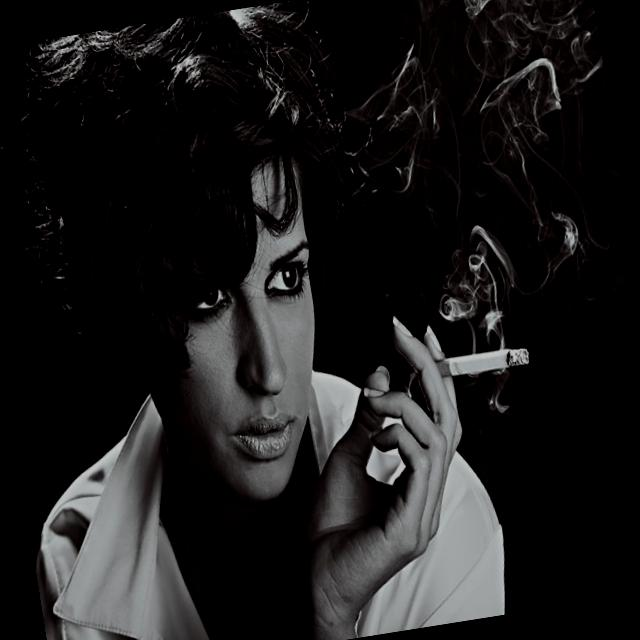cigarette: (443, 341, 532, 378)
